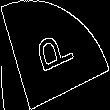P_W: (31, 29, 79, 81)
